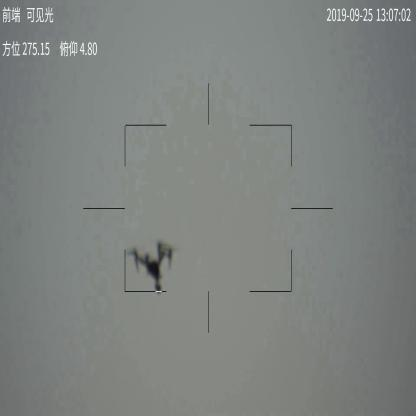uav: (126, 239, 180, 294)
